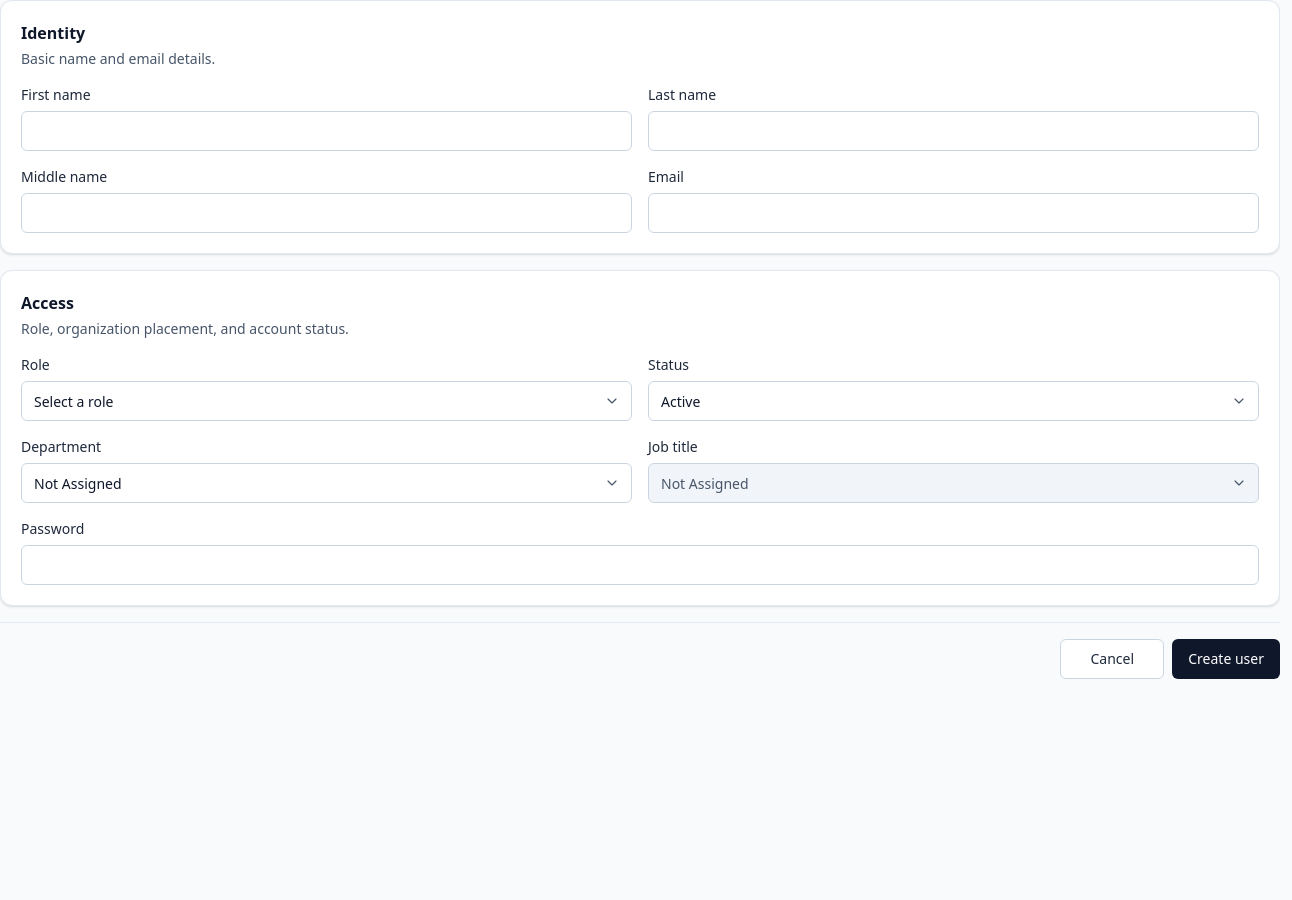
Scenario: UserForm dependent department/job title select › disables job title until a department is selected
Expected: the dropdown with id "job_title_id" is disabled, top-left (648, 463), bottom-right (1259, 503)
Select "Engineering" in the dropdown with id "department_id" at (326, 483), box top-left (21, 463), bottom-right (632, 503)
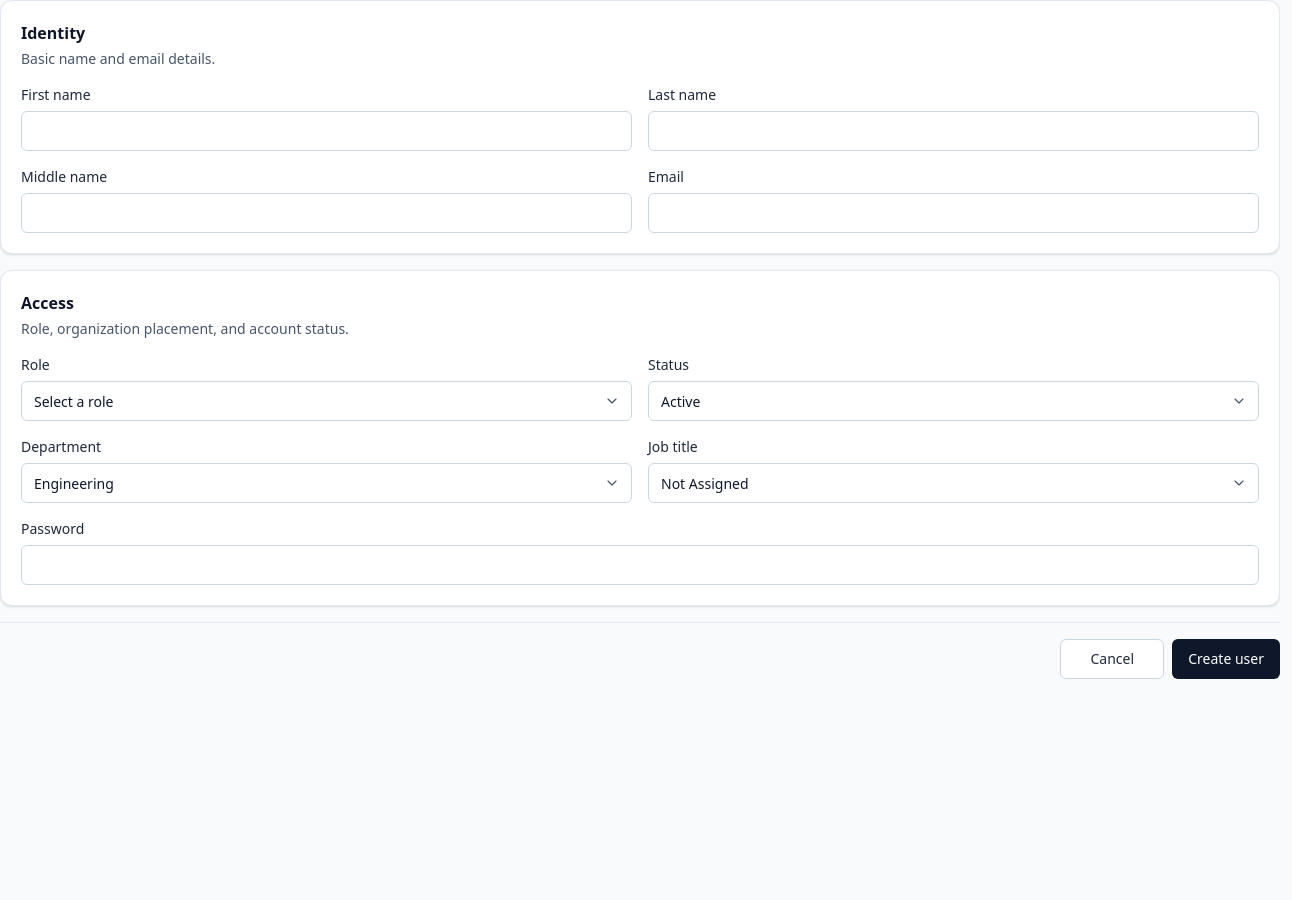
Result: the dropdown with id "job_title_id" is enabled at top-left (648, 463), bottom-right (1259, 503)
